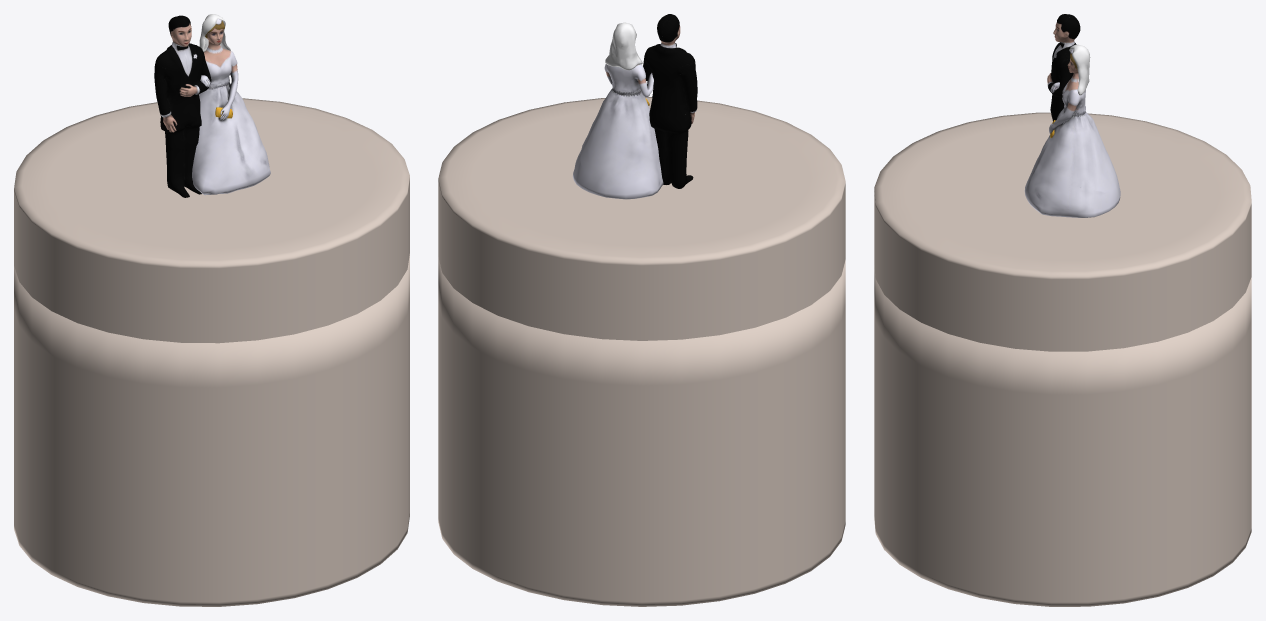
File: 1-tier-white-none-bridegroom.glb
The picture shows the model from 3 angles, left to right: view 1: azimuth 30°, elevation 25°; view 2: azimuth 150°, elevation 25°; view 3: azimuth 270°, elevation 25°; orthographic projection. The views are drawn at different scales.
Visible parts, largest first — view 1: Cylinder.019, 13501_Cake_Topper_Bride_Groom_v1_L1.004; view 2: Cylinder.019, 13501_Cake_Topper_Bride_Groom_v1_L1.004; view 3: Cylinder.019, 13501_Cake_Topper_Bride_Groom_v1_L1.004.
Boxes of the visible parts, x1,y1,x2,y2 form: Cylinder.019: (14, 98, 409, 606); 13501_Cake_Topper_Bride_Groom_v1_L1.004: (154, 14, 270, 197); Cylinder.019: (438, 97, 845, 606); 13501_Cake_Topper_Bride_Groom_v1_L1.004: (572, 14, 697, 199); Cylinder.019: (874, 112, 1251, 606); 13501_Cake_Topper_Bride_Groom_v1_L1.004: (1024, 14, 1120, 217).
Bounding box in the file's own units: 2.63 × 3.7 × 2.55.
2 materials, 1 textured.
